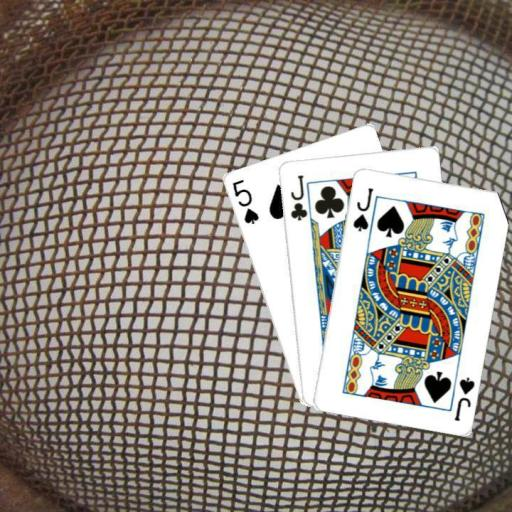card-corner: (228, 176, 260, 226), (349, 184, 374, 233), (451, 374, 476, 422), (286, 171, 308, 222)
